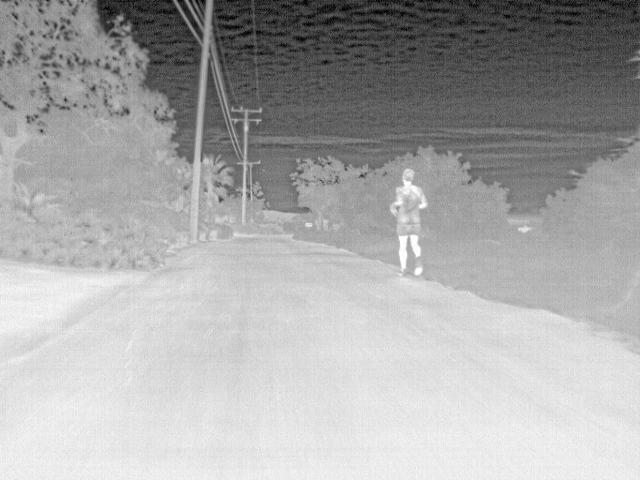person: (388, 166, 428, 277)
